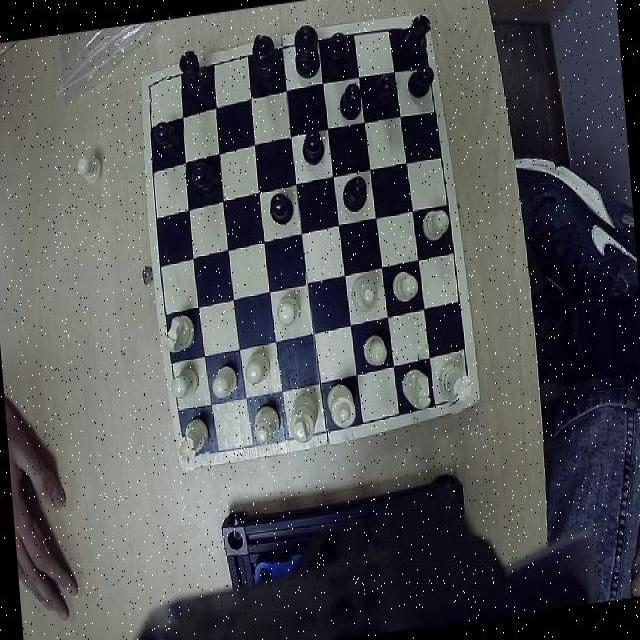chess-table-corners: (446, 378, 480, 413), (180, 438, 212, 471), (402, 20, 432, 52), (144, 73, 170, 104)
